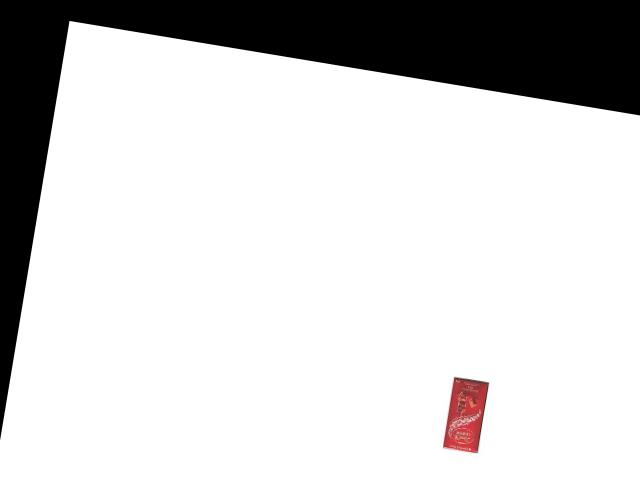chocolate: (439, 371, 491, 455)
